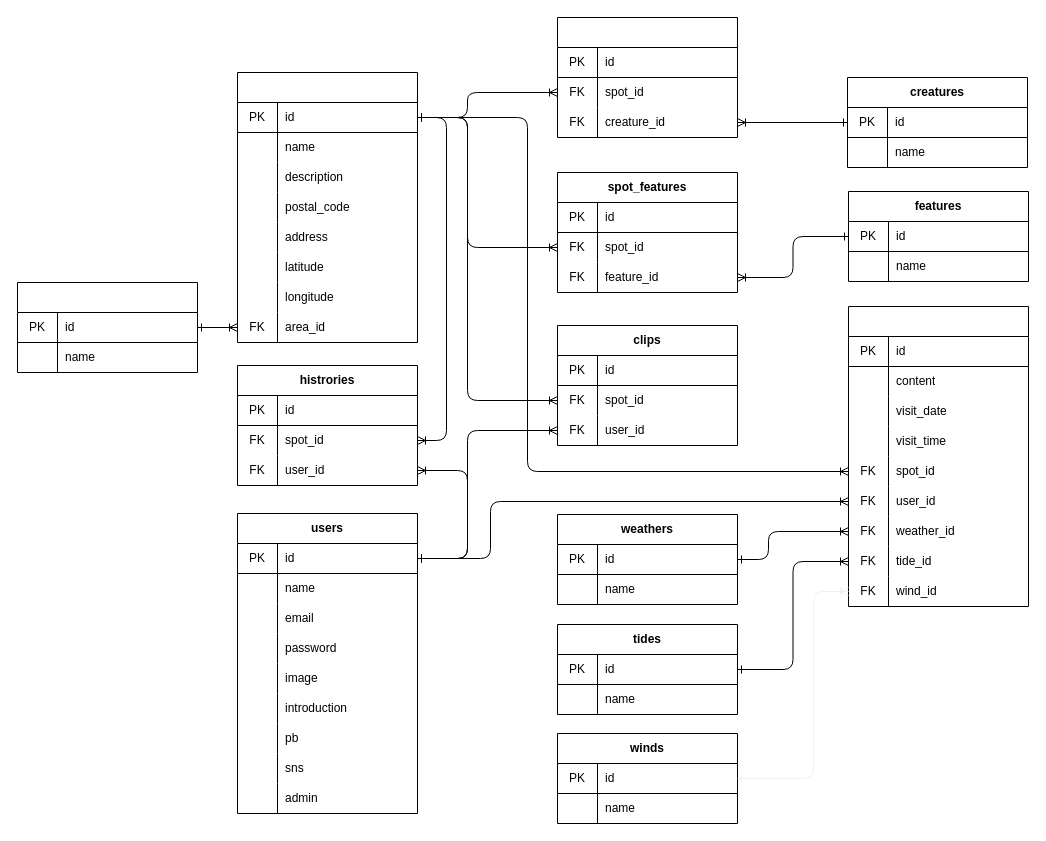
Image size: 1046x841. Some labels were removed from this diagram. The box of each missing label's shape, as (x1, y1, x2, y2) in pixels:
areas: (16, 282, 198, 372)
comments: (848, 306, 1028, 606)
spot_creatures: (556, 16, 738, 138)
spots: (236, 72, 418, 342)
